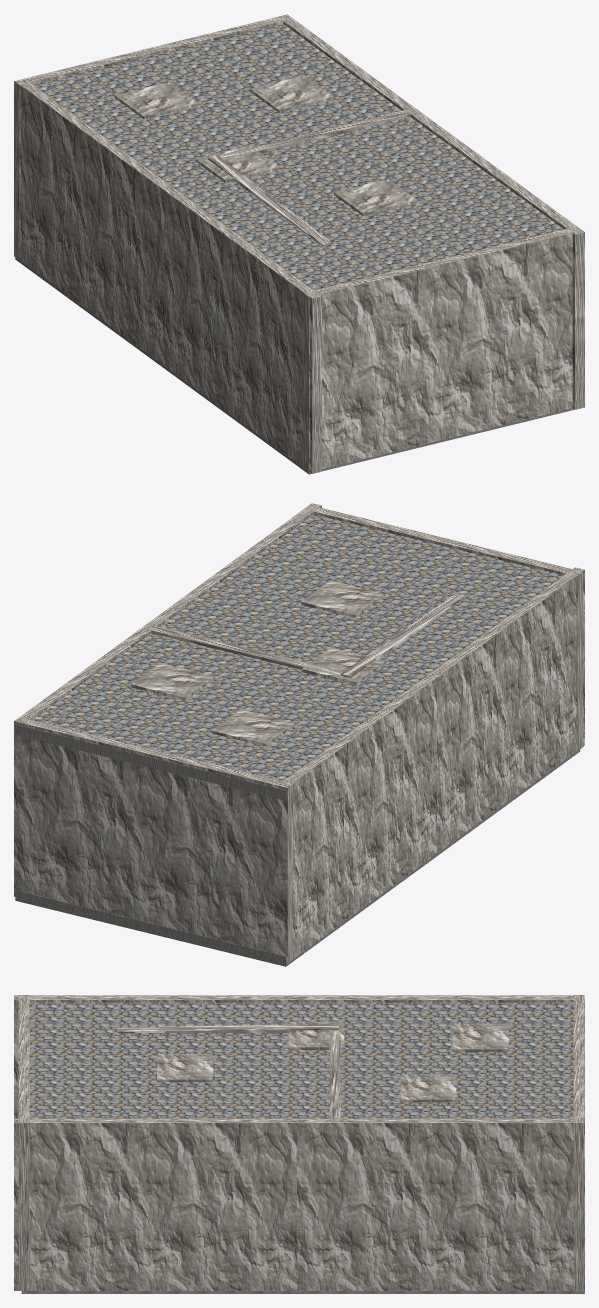
Rendered from cave-aglb.glb.
3 views of the same model, one above another, from view 1: azimuth 30°, elevation 25°; view 2: azimuth 150°, elevation 25°; view 3: azimuth 270°, elevation 25° (orthographic). The views are drawn at different scales.
Visible parts, largest first — view 1: Cube.001, Cube.015, Cube.013, Cube.005, Cube.016, Cube.004, Cube.003, Cube.009, Cube.007, Cube.008, Cube.012, Cube.014 (+3 smaller); view 2: Cube.003, Cube.015, Cube.013, Cube.016, Cube.005, Cube.001, Cube.006, Cube.004, Cube.009, Cube.007, Cube.012, Cube.008 (+3 smaller); view 3: Cube.009, Cube.004, Cube.015, Cube.013, Cube.003, Cube.001, Cube.005, Cube.016, Cube.007, Cube.008, Cube.012, Cube.011 (+4 smaller).
Boxes of the visible parts, x1,y1,x2,y2 form: Cube.001: (303,226,581,472); Cube.015: (175,127,563,290); Cube.013: (33,24,423,188); Cube.005: (164,188,321,473); Cube.016: (18,80,173,365); Cube.004: (427,124,584,409); Cube.003: (14,14,292,260); Cube.009: (280,16,436,128); Cube.007: (114,82,198,119); Cube.008: (250,75,333,112); Cube.012: (334,179,417,216); Cube.014: (218,109,411,158); Cube.003: (14,717,293,963); Cube.015: (171,514,563,679); Cube.013: (15,619,420,800); Cube.016: (283,676,436,958); Cube.005: (427,567,584,852); Cube.001: (304,505,583,751); Cube.006: (15,856,433,966); Cube.004: (164,503,321,616); Cube.009: (16,611,173,721); Cube.007: (211,709,295,746); Cube.012: (301,580,384,617); Cube.008: (131,663,214,700); Cube.009: (297,1118,580,1290); Cube.004: (14,1118,297,1290); Cube.015: (29,1002,303,1118); Cube.013: (302,999,584,1134); Cube.003: (573,995,584,1290); Cube.001: (18,995,29,1290); Cube.005: (14,995,297,1118); Cube.016: (297,995,580,1002); Cube.007: (452,1023,508,1051); Cube.008: (400,1074,456,1102); Cube.012: (157,1054,212,1082); Cube.011: (117,1024,338,1032).
Bounding box in the file's own units: 19.49 × 12.29 × 36.75.
Materials: 3 (3 with a texture image).
